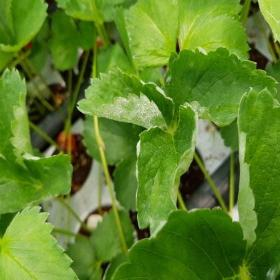Powdery Mildew Leaf: (162, 45, 279, 130), (134, 103, 199, 236), (76, 66, 175, 130), (0, 150, 72, 214), (0, 67, 35, 176)
